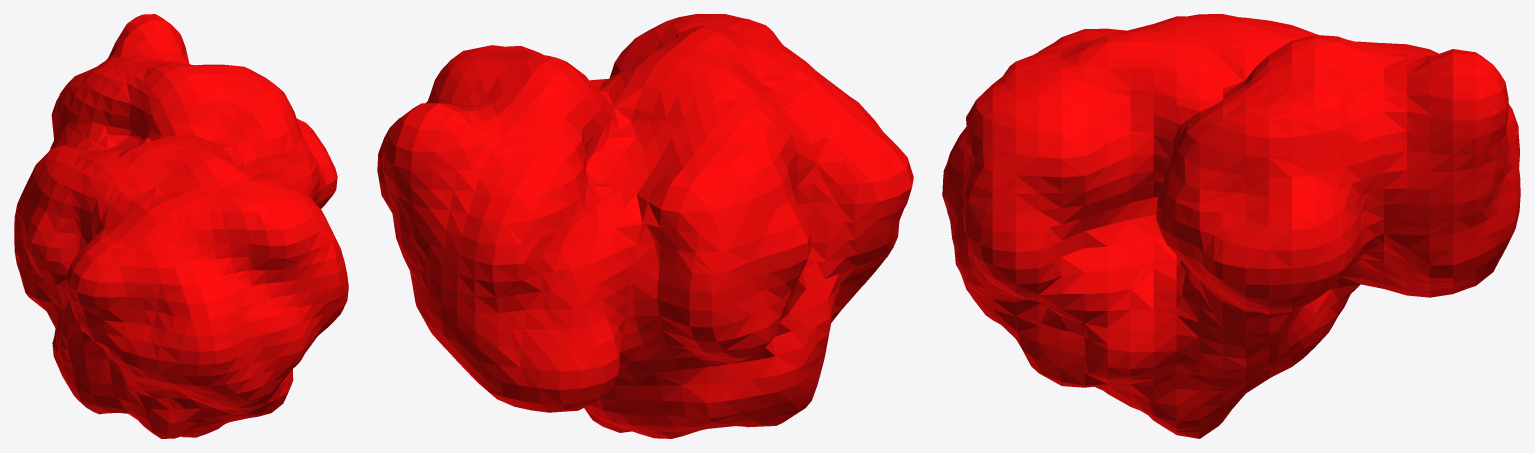
File: gatZ_coarse.dae
3 renders of one model, left to right at view 1: azimuth 30°, elevation 25°; view 2: azimuth 150°, elevation 25°; view 3: azimuth 270°, elevation 25°, orthographic. The views are drawn at different scales.
Parts seen in each view (by area): view 1: gatZ; view 2: gatZ; view 3: gatZ.
Part boxes in pixels (<box>): gatZ: <box>14,14,348,438</box>; gatZ: <box>377,14,913,438</box>; gatZ: <box>942,14,1520,438</box>.
Bounding box in the file's own units: 59.16 × 54.63 × 70.81.
